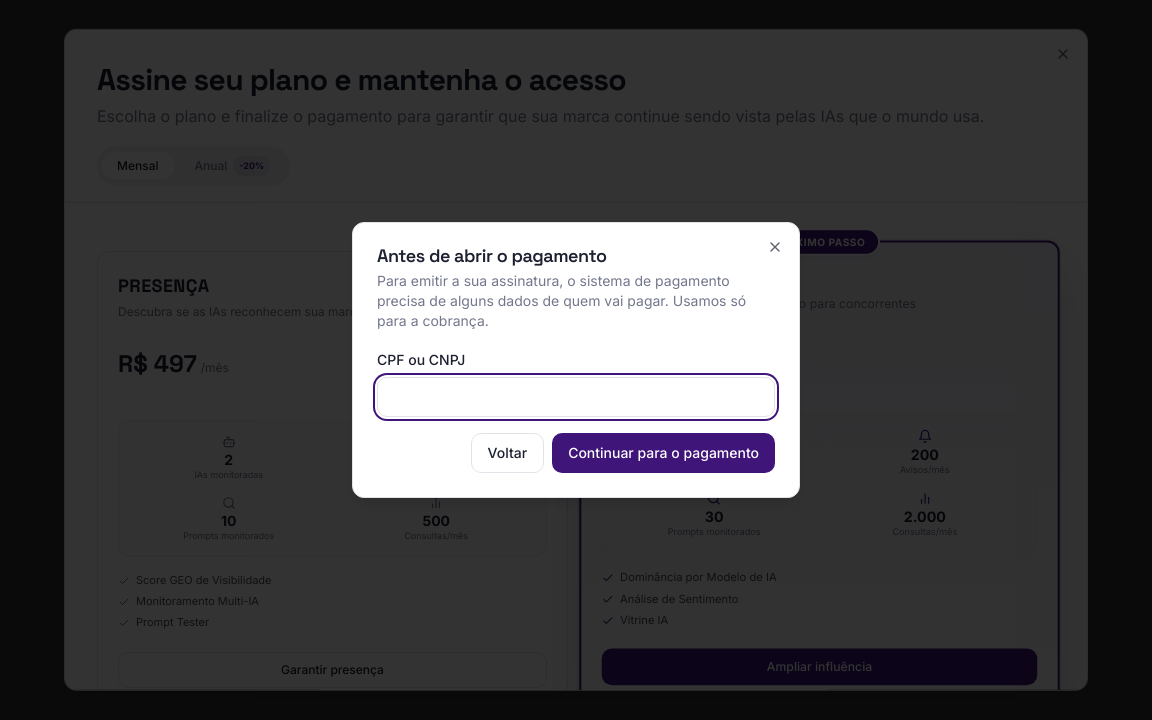
Test case: CpfCnpjDialog no UpgradeModal › sem documento no perfil: pede antes, envia só os dígitos e abre o pagamento
Earlier steps of the test are not shown.
Later steps or results of the test are not shown.
Check: the heading "Antes de abrir o pagamento" is shown, box x1=377 y1=244 x2=606 y2=267
In the field labelled "CPF ou CNPJ": [576, 397] box x1=377 y1=377 x2=775 y2=417, type "52998224725"
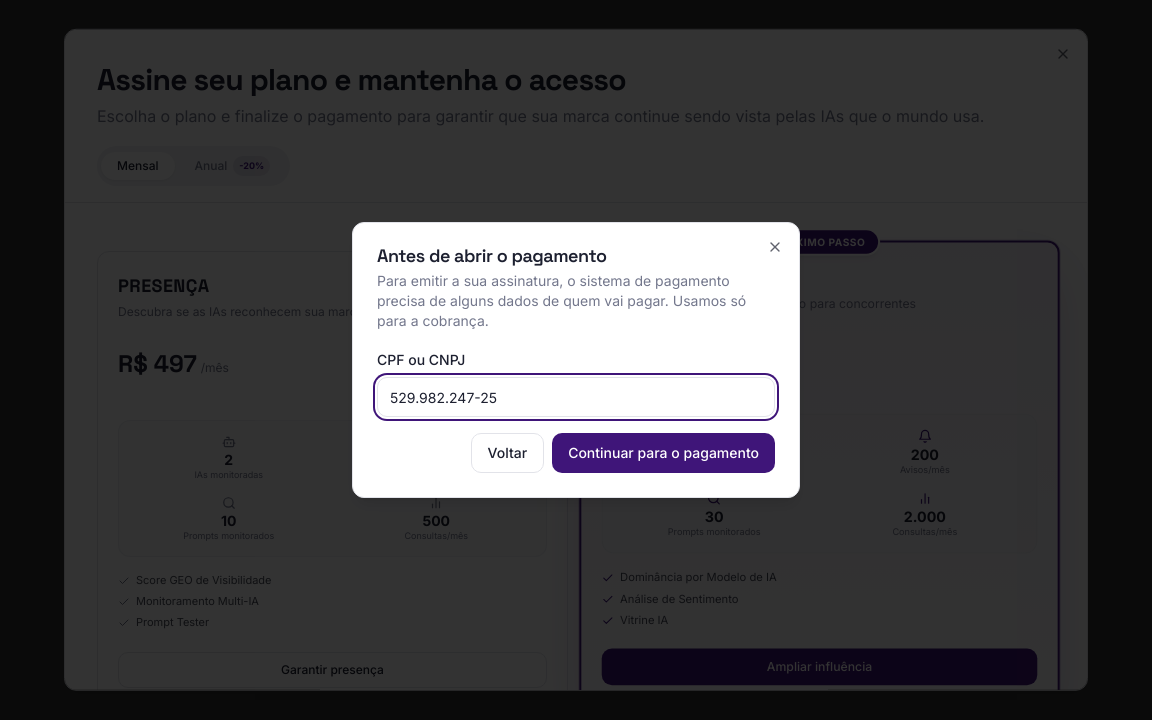
Check: the field labelled "CPF ou CNPJ" holds "529.982.247-25", box x1=377 y1=377 x2=775 y2=417
